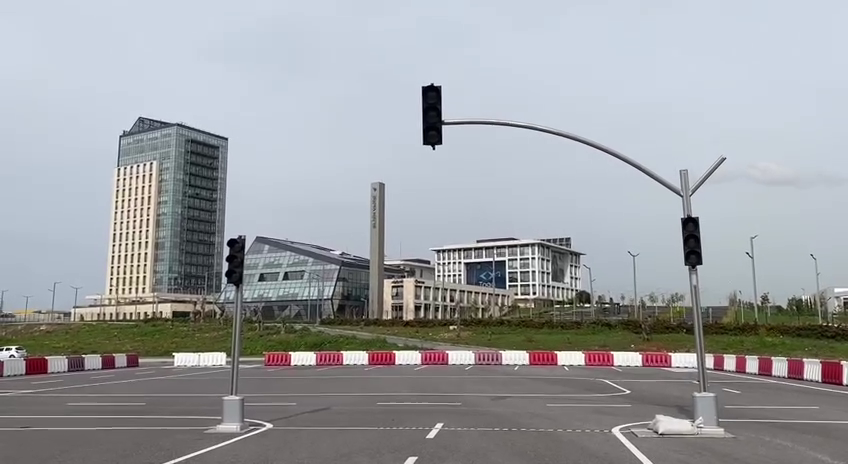trafficLight: (418, 80, 448, 152), (677, 211, 707, 270), (222, 229, 249, 291)
